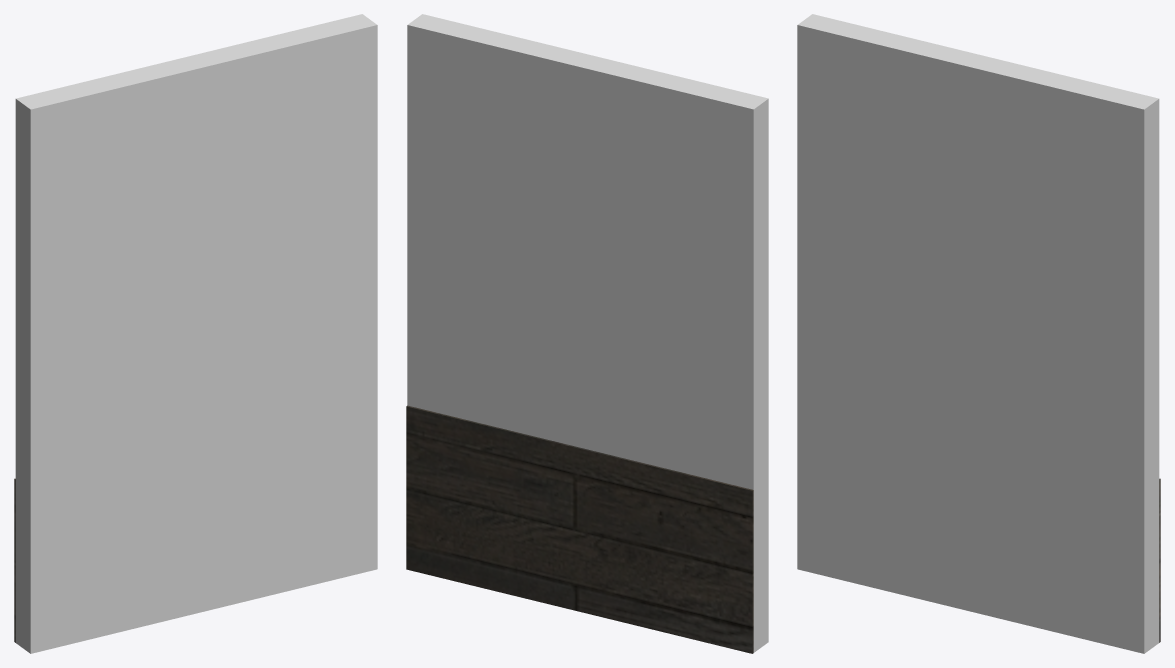
The model's file is SM_Arch_WallModule_01.glb.
3 renders of one model, left to right at view 1: azimuth 30°, elevation 25°; view 2: azimuth 150°, elevation 25°; view 3: azimuth 330°, elevation 25°, orthographic.
Parts seen in each view (by area): view 1: COL_Arch_WallModule_01; view 2: COL_Arch_WallModule_01, SM_Arch_WallModule_01; view 3: COL_Arch_WallModule_01.
Boxes of the visible parts, box(x1,y1,x2,y2) form: COL_Arch_WallModule_01: box(15, 14, 377, 653); COL_Arch_WallModule_01: box(407, 14, 768, 652); SM_Arch_WallModule_01: box(406, 405, 753, 653); COL_Arch_WallModule_01: box(797, 14, 1159, 653).
Bounding box in the file's own units: 2 × 3 × 0.162.
Materials: 2 (2 with a texture image).
